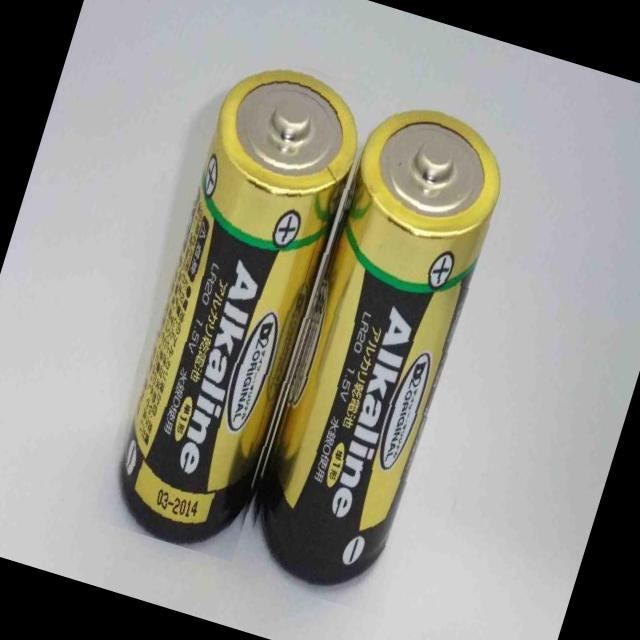Hazard: (232, 82, 526, 615), (90, 36, 386, 564)
